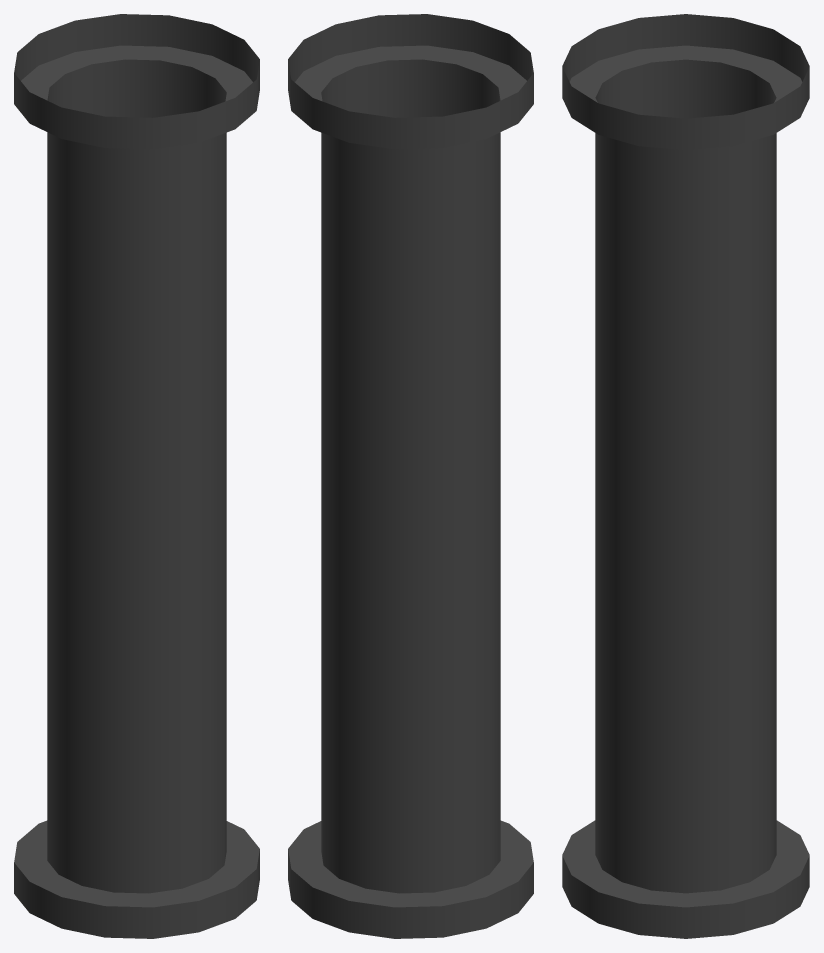
Rendered from pipeline_c.glb.
3 views of the same model, side by side, from view 1: azimuth 30°, elevation 25°; view 2: azimuth 150°, elevation 25°; view 3: azimuth 270°, elevation 25° (orthographic).
Visible parts, largest first — view 1: Pipeline_C; view 2: Pipeline_C; view 3: Pipeline_C.
Boxes of the visible parts, x1,y1,x2,y2 form: Pipeline_C: [14, 14, 259, 938]; Pipeline_C: [288, 14, 533, 938]; Pipeline_C: [562, 14, 809, 938].
Size of the model in its own units: 0.2736 by 1 by 0.2736.
Materials: 1 (1 with a texture image).
